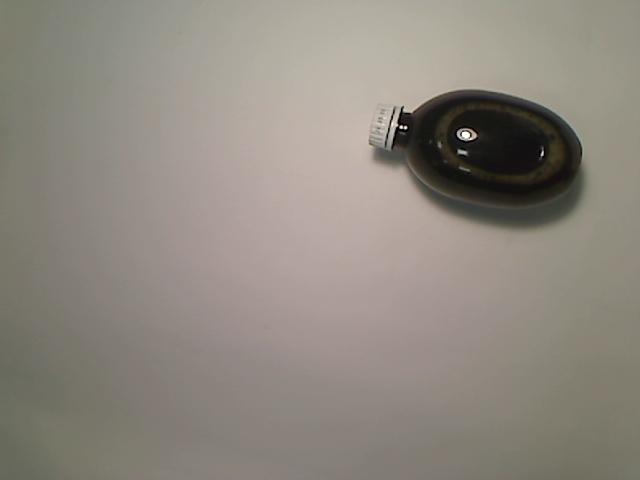plast_bottle: (366, 88, 585, 212)
